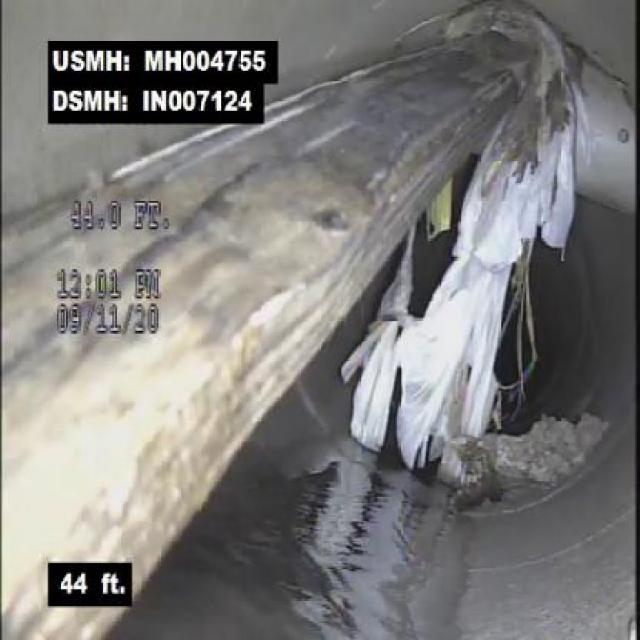Debris: (457, 402, 618, 508)
